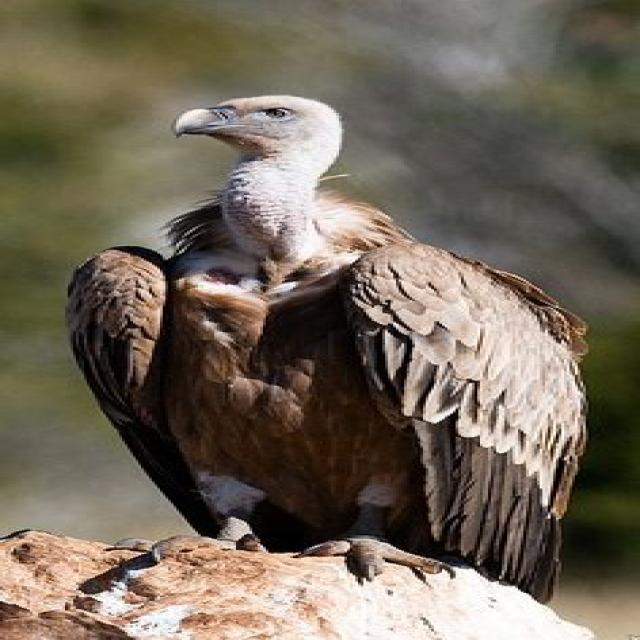Carnivorous: (68, 95, 591, 605)
